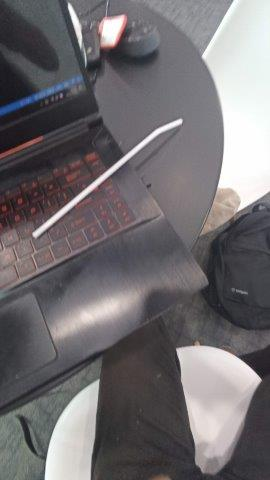sedotan: (32, 119, 182, 238)
